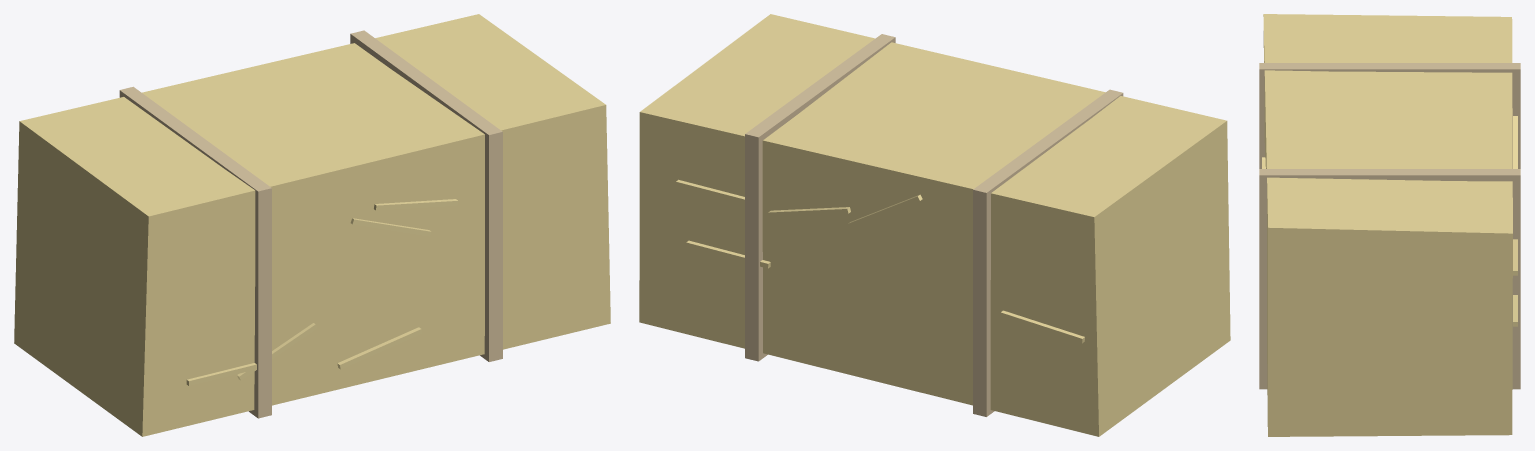
Rendered from SM_Hay_Bale.glb.
3 views of the same model, side by side, from view 1: azimuth 30°, elevation 25°; view 2: azimuth 150°, elevation 25°; view 3: azimuth 270°, elevation 25° (orthographic). The views are drawn at different scales.
Visible parts, largest first — view 1: SM_Hay_Bale; view 2: SM_Hay_Bale; view 3: SM_Hay_Bale.
Part boxes in pixels (x1=…): SM_Hay_Bale: x1=14, y1=14, x2=610, y2=436; SM_Hay_Bale: x1=639, y1=14, x2=1230, y2=436; SM_Hay_Bale: x1=1259, y1=14, x2=1520, y2=436.
Size of the model in its own units: 1.02 by 0.47 by 0.52.
